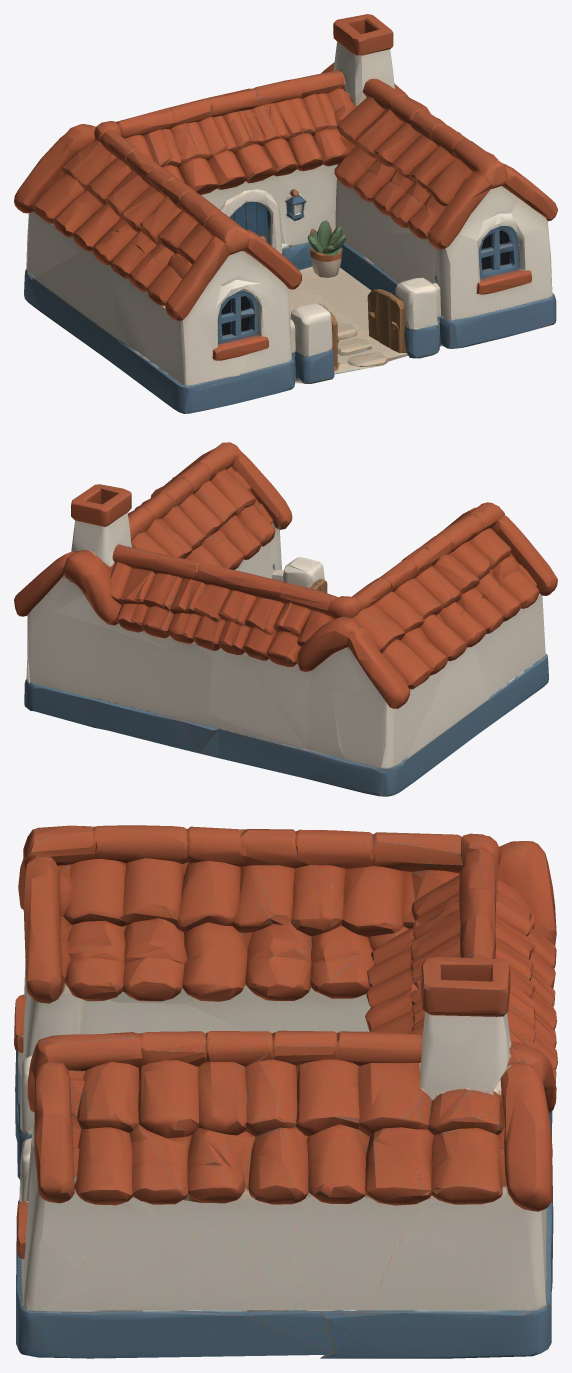
File: model-village-courtyardHouse-ff48c81da79d.glb
3 renders of one model, top to bottom at view 1: azimuth 30°, elevation 25°; view 2: azimuth 150°, elevation 25°; view 3: azimuth 270°, elevation 25°, orthographic. The views are drawn at different scales.
Parts seen in each view (by area): view 1: Mesh_0; view 2: Mesh_0; view 3: Mesh_0.
Boxes of the visible parts, x1,y1,x2,y2 form: Mesh_0: [14, 14, 557, 413]; Mesh_0: [14, 442, 557, 796]; Mesh_0: [14, 825, 557, 1358].
Size of the model in its own units: 3.2 by 1.65 by 2.36.
1 material, 1 textured.
